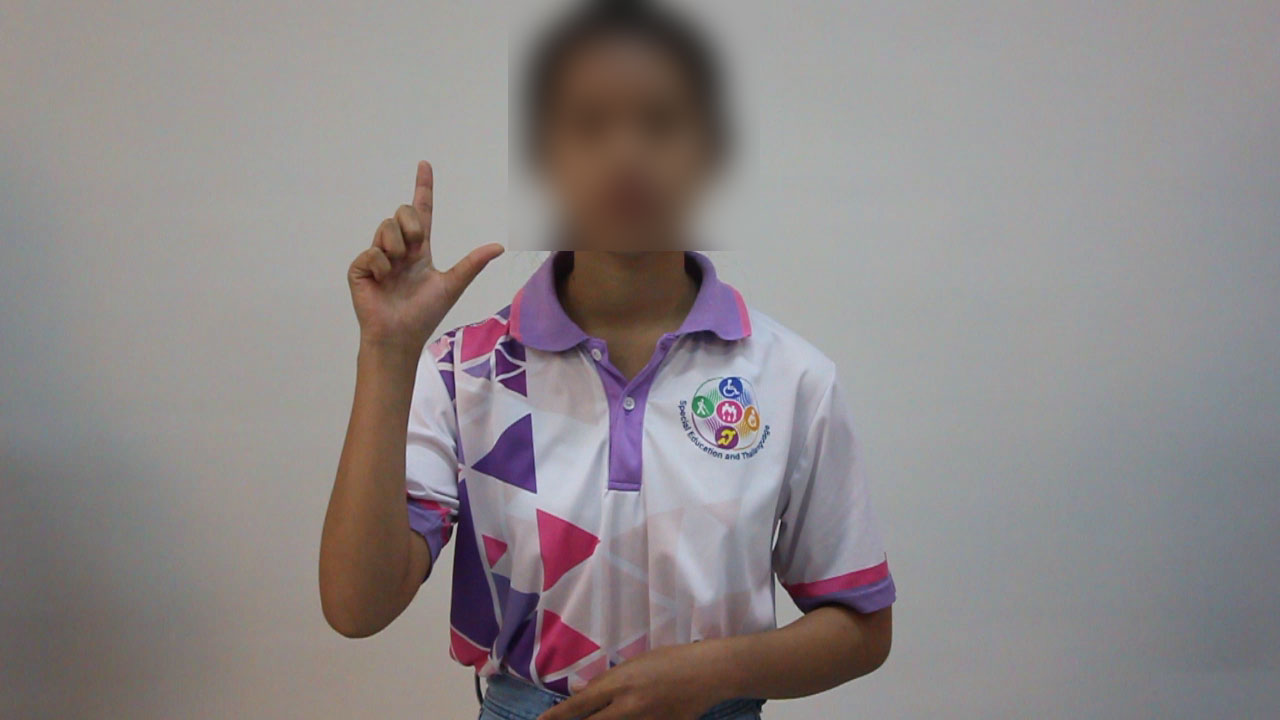lor: (307, 127, 544, 377)
